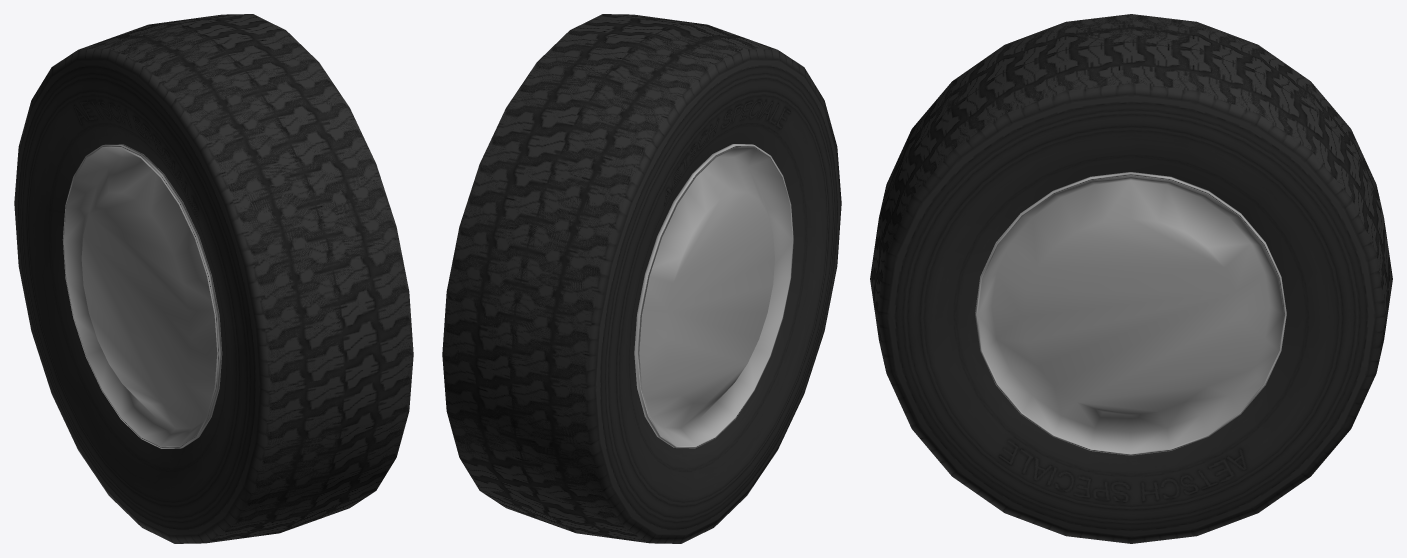
File: wheels_02.fbx
The picture shows the model from 3 angles, left to right: view 1: azimuth 30°, elevation 25°; view 2: azimuth 150°, elevation 25°; view 3: azimuth 270°, elevation 25°; orthographic projection.
Visible parts, largest first — view 1: Mesh, Mesh_ncl1_1; view 2: Mesh, Mesh_ncl1_1; view 3: Mesh, Mesh_ncl1_1.
Boxes of the visible parts, x1,y1,x2,y2 form: Mesh: (14, 14, 413, 543); Mesh_ncl1_1: (63, 15, 412, 538); Mesh: (442, 14, 841, 543); Mesh_ncl1_1: (444, 16, 792, 542); Mesh: (870, 14, 1392, 543); Mesh_ncl1_1: (877, 15, 1385, 455).
Size of the model in its own units: 23.6 by 65.27 by 65.27.
